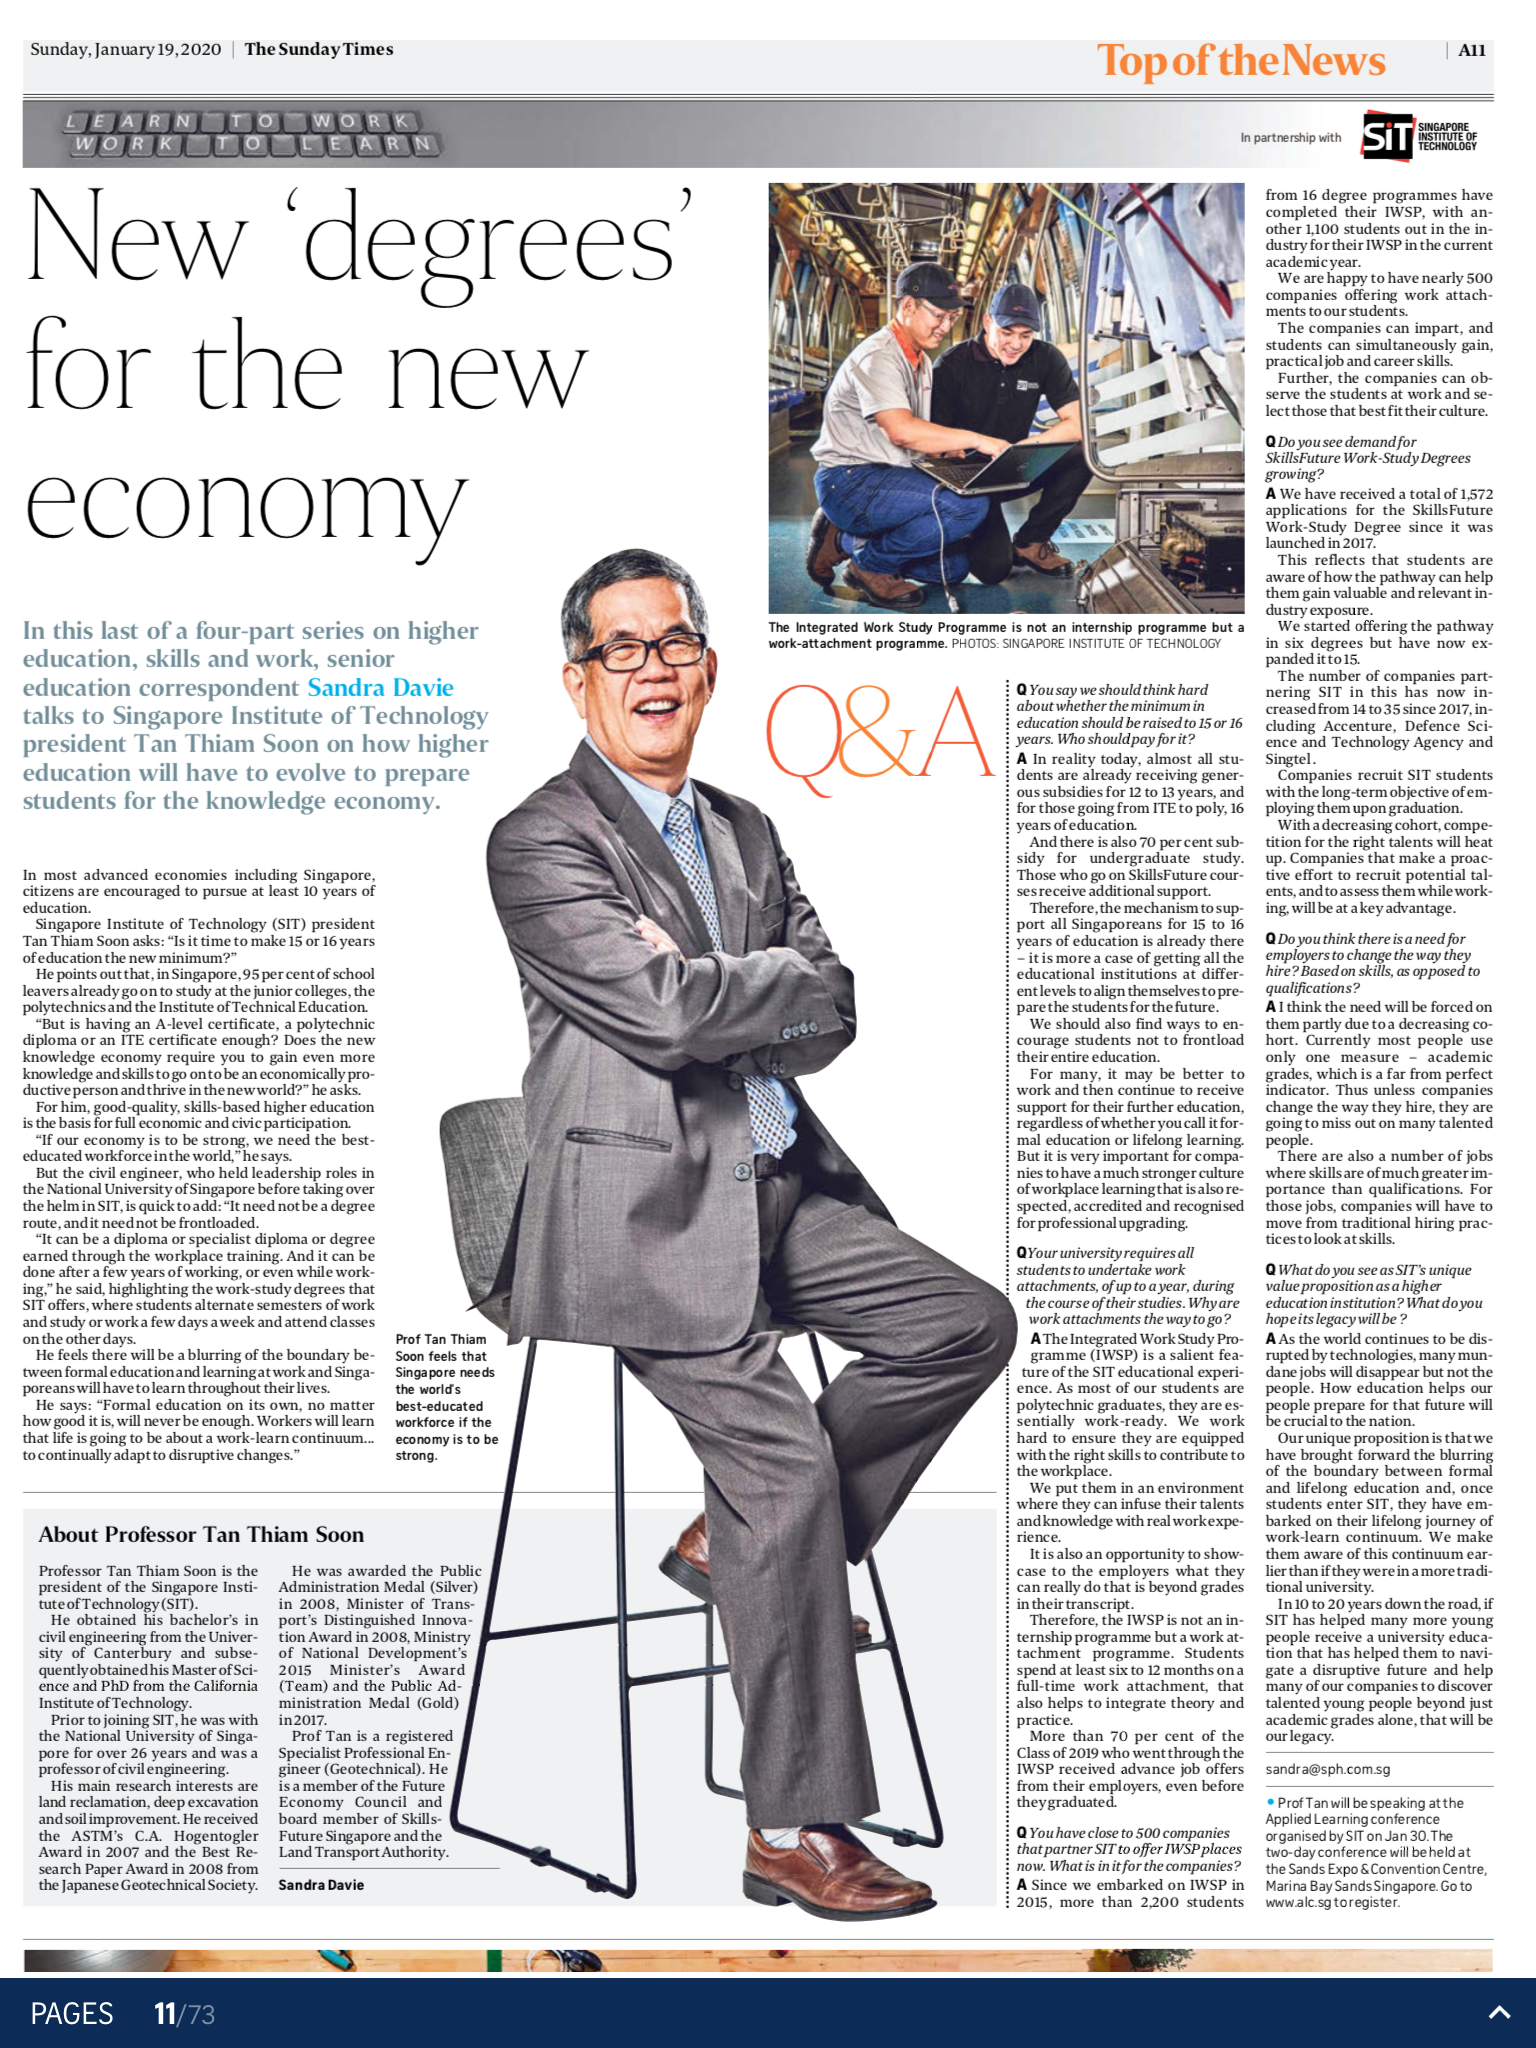Headline: (6, 171, 713, 560)
